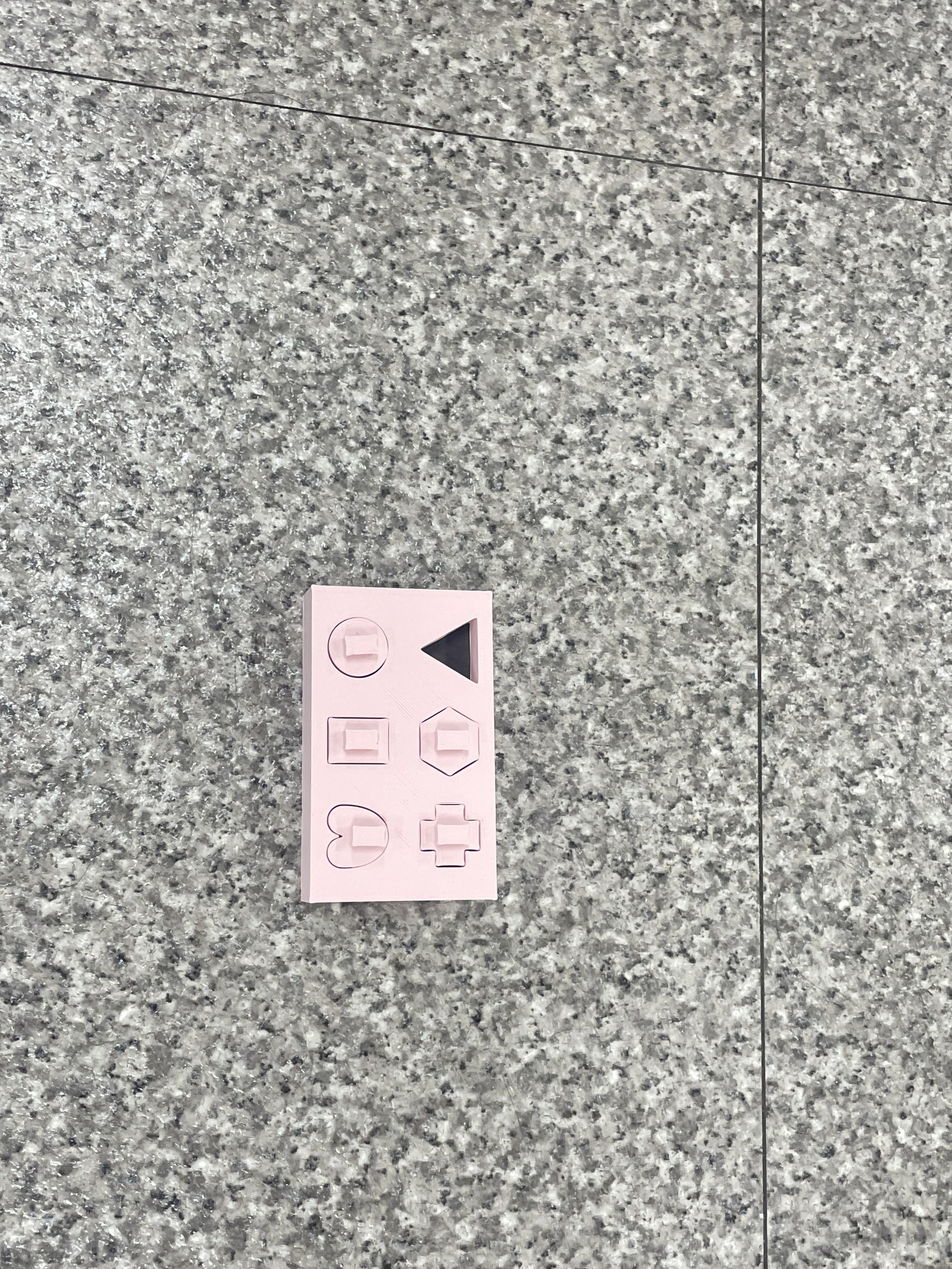unsolved: (299, 570, 516, 928)
